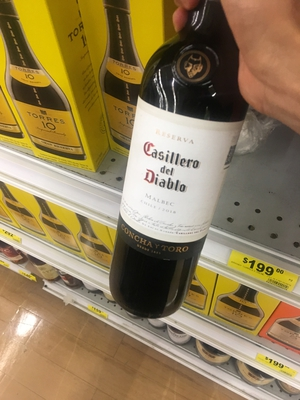casillero del diablo malbec: (112, 17, 243, 320)
